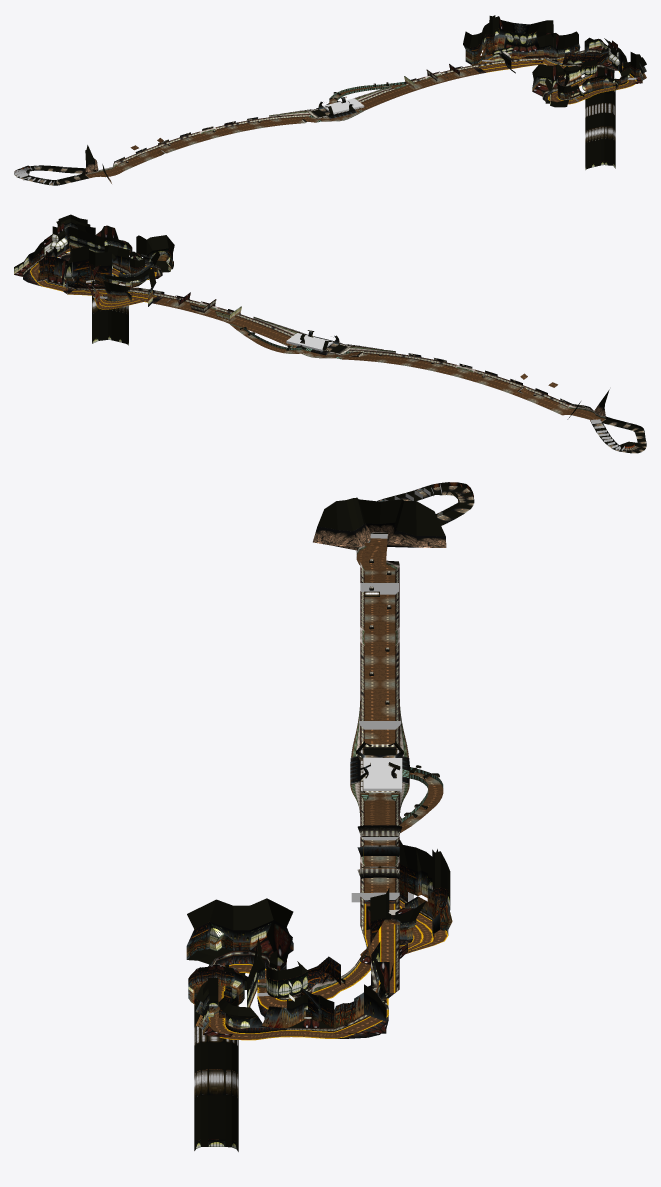
The model's file is Beltane.glb.
The picture shows the model from 3 angles, top to bottom: view 1: azimuth 30°, elevation 25°; view 2: azimuth 150°, elevation 25°; view 3: azimuth 270°, elevation 25°; orthographic projection. The views are drawn at different scales.
Visible parts, largest first — view 1: Sector140, Sector53, Sector109, Sector118, Sector52, Sector105, Sector39, Sector120, Sector127, Sector54, Sector8, RepairZone0 (+14 smaller); view 2: Sector140, Sector131, Sector108, Sector109, Sector112, Sector122, Sector132, Sector107, Sector129, RepairZone0, Sector30, Sector8 (+5 smaller); view 3: Sector68, Sector140, Sector122, Sector69, Sector127, Sector53, Sector118, RepairZone0, Sector52, Sector115, Sector125, Sector133 (+1 smaller).
Boxes of the visible parts, x1,y1,x2,y2 form: Sector140: (585, 139, 615, 170); Sector53: (585, 102, 615, 131); Sector109: (527, 20, 555, 61); Sector118: (621, 52, 646, 84); Sector52: (585, 126, 615, 144); Sector105: (501, 20, 529, 39); Sector39: (504, 36, 537, 52); Sector120: (590, 67, 618, 91); Sector127: (532, 64, 556, 87); Sector54: (585, 86, 615, 107); Sector8: (114, 145, 144, 171); RepairZone0: (323, 98, 363, 113); Sector140: (92, 310, 128, 345); Sector131: (44, 222, 104, 247); Sector108: (79, 250, 111, 285); Sector109: (65, 245, 88, 290); Sector112: (37, 256, 67, 281); Sector122: (146, 235, 174, 263); Sector132: (57, 234, 104, 257); Sector107: (104, 264, 150, 287); Sector129: (112, 247, 142, 273); RepairZone0: (286, 333, 333, 351); Sector30: (243, 317, 279, 337); Sector8: (538, 382, 572, 414); Sector68: (317, 497, 445, 536); Sector140: (194, 1095, 238, 1151); Sector122: (187, 899, 250, 945); Sector69: (313, 522, 446, 550); Sector127: (250, 898, 293, 960); Sector53: (194, 1025, 238, 1074); Sector118: (195, 980, 257, 1036); RepairZone0: (363, 757, 402, 792); Sector52: (194, 1069, 238, 1100); Sector115: (286, 994, 334, 1028); Sector125: (186, 934, 250, 964); Sector133: (266, 962, 307, 998).
Bounding box in the file's own units: 3072 × 659 × 669.
28 materials, 23 textured.
